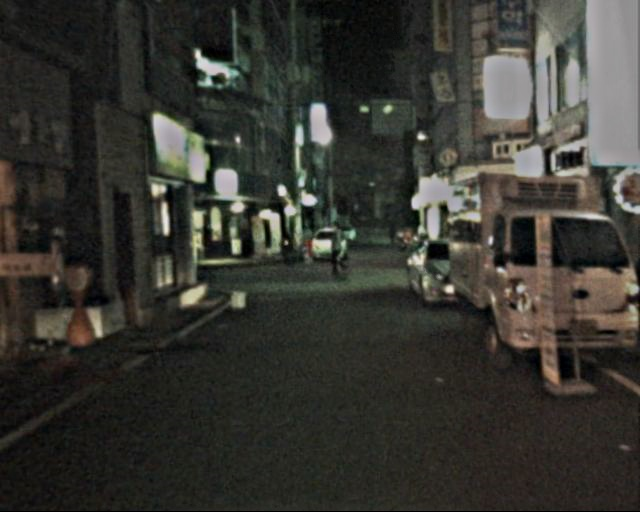person: (321, 222, 350, 281)
